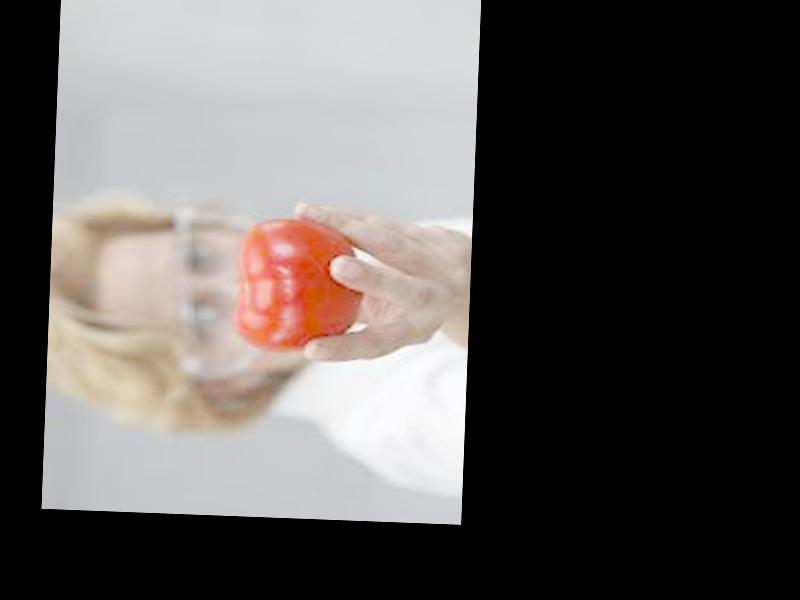Tomato: (235, 217, 362, 358)
